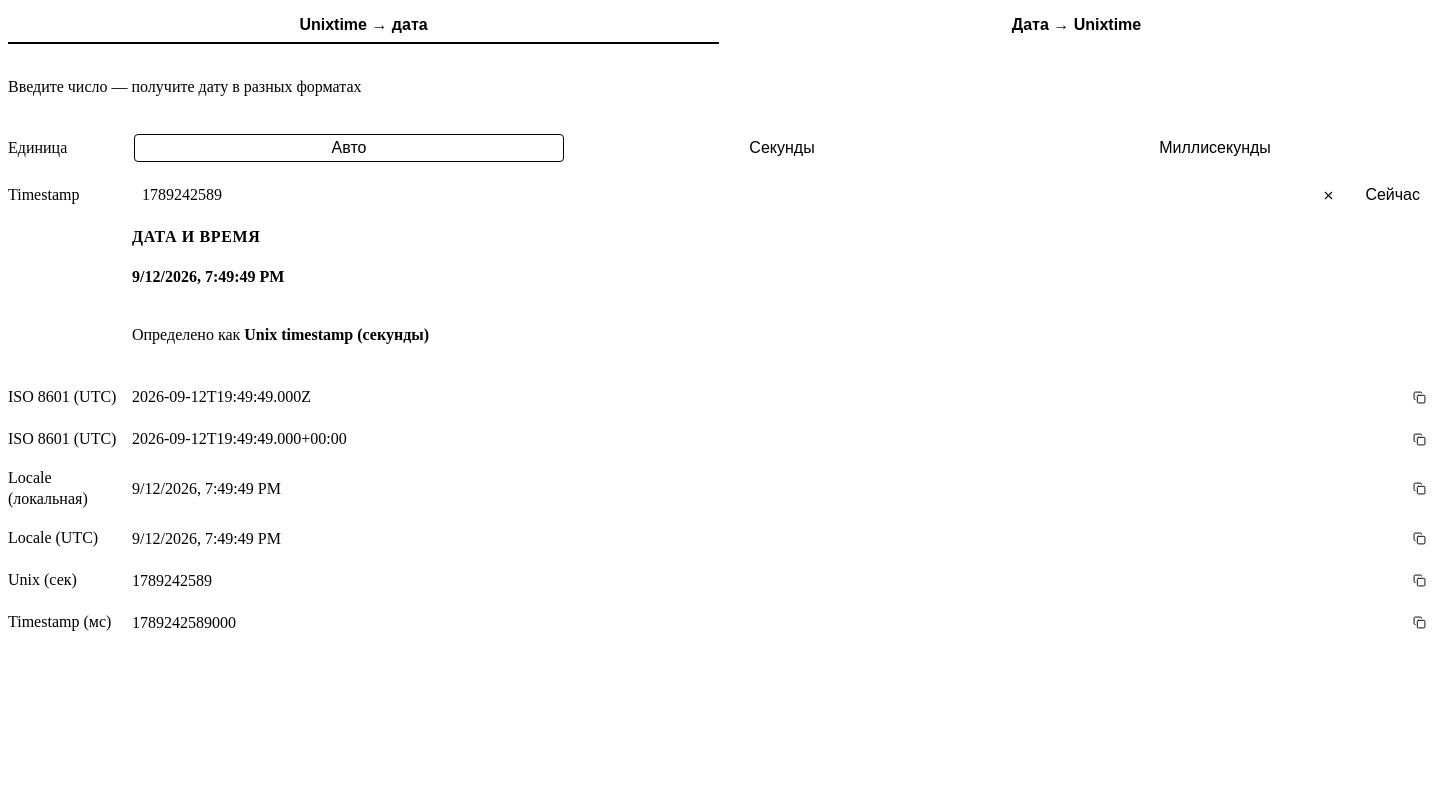
UnixtimeConverter › несуществующая дата объясняется, а не переносится на следующий месяц
Step 1. Click the tab "Дата → Unixtime" → (1076, 26), box [721, 8, 1432, 44]
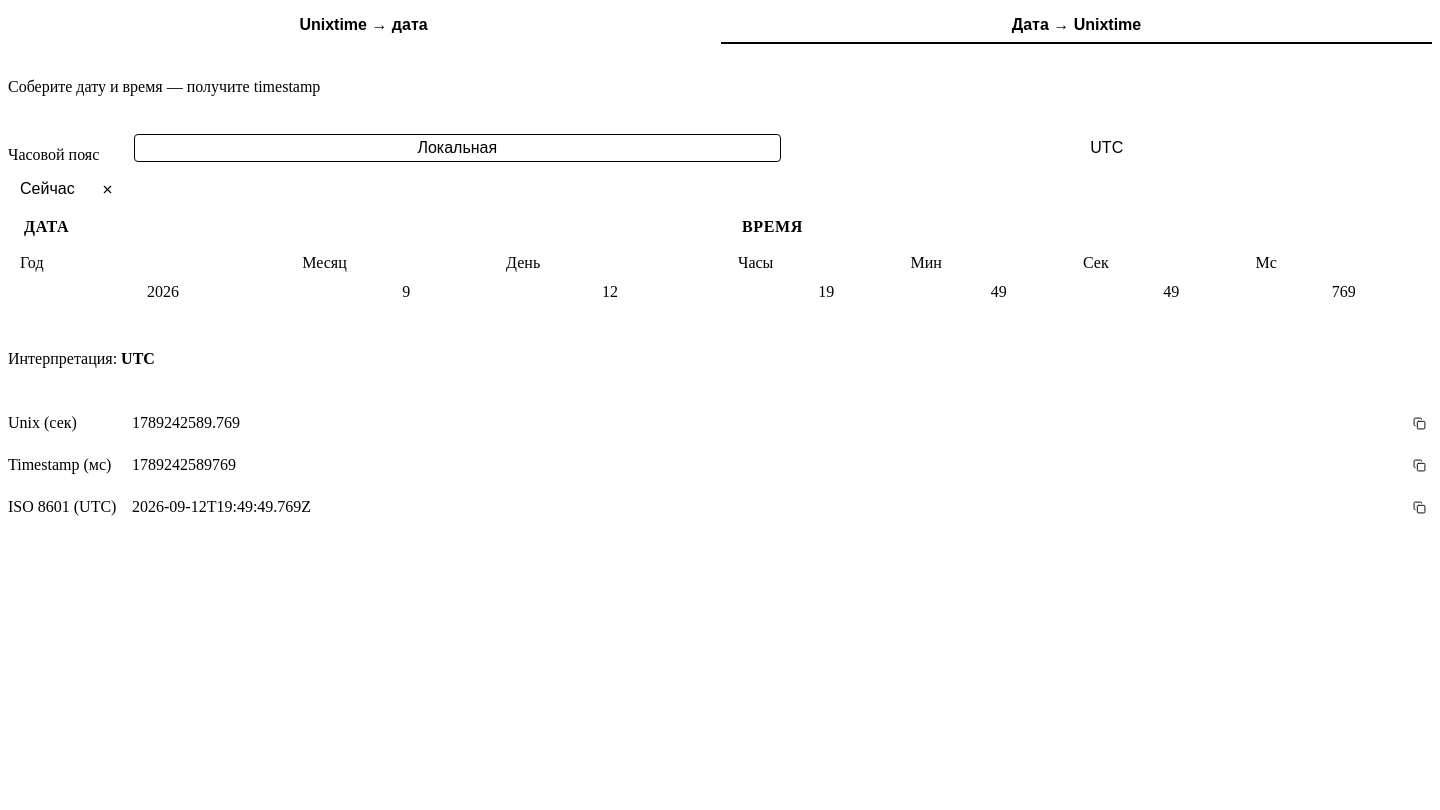
Step 2. Click the button "UTC" → (1107, 148), box [784, 134, 1430, 162]
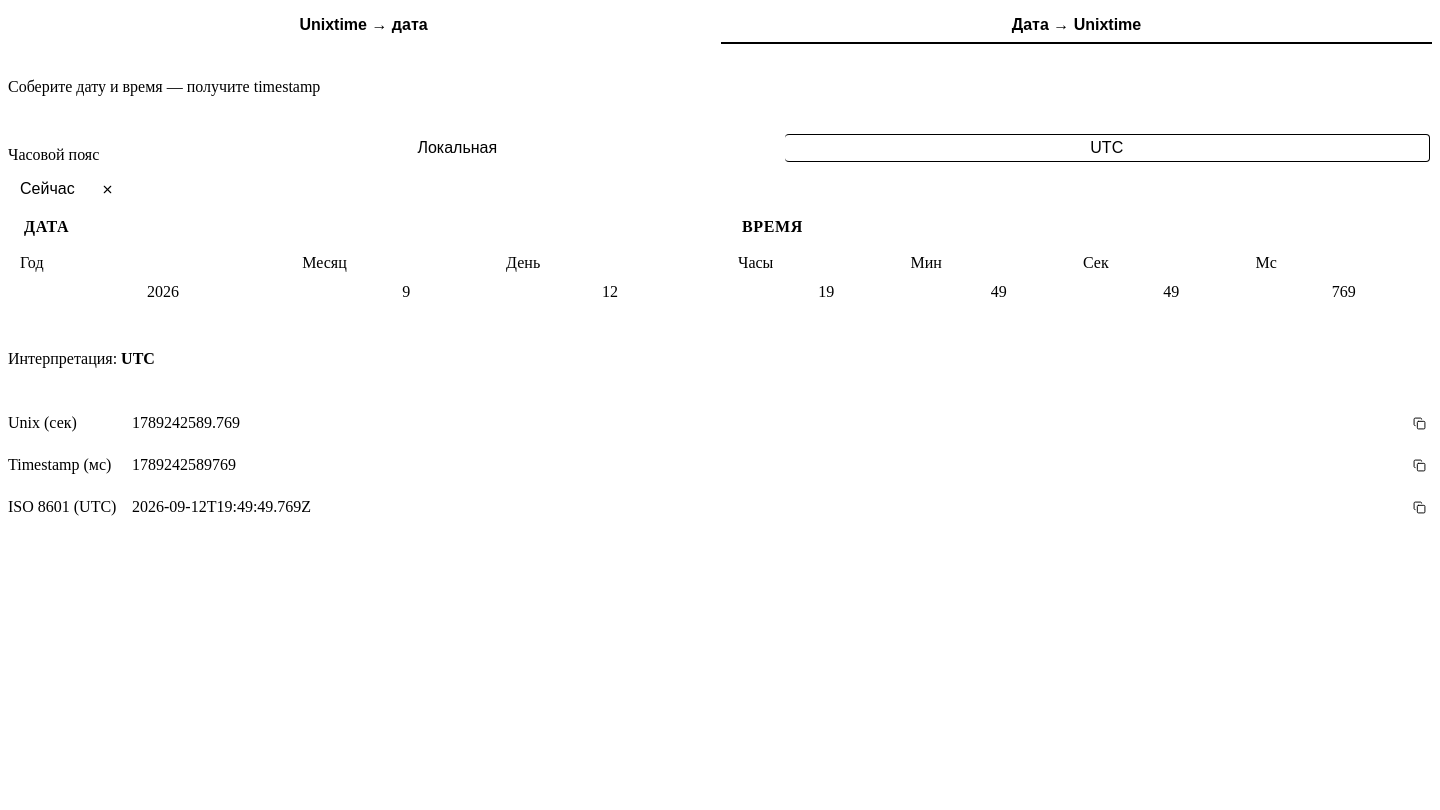
Step 3. Replace the text in the field labelled "Месяц" with "2" → (406, 292), box [302, 276, 510, 308]
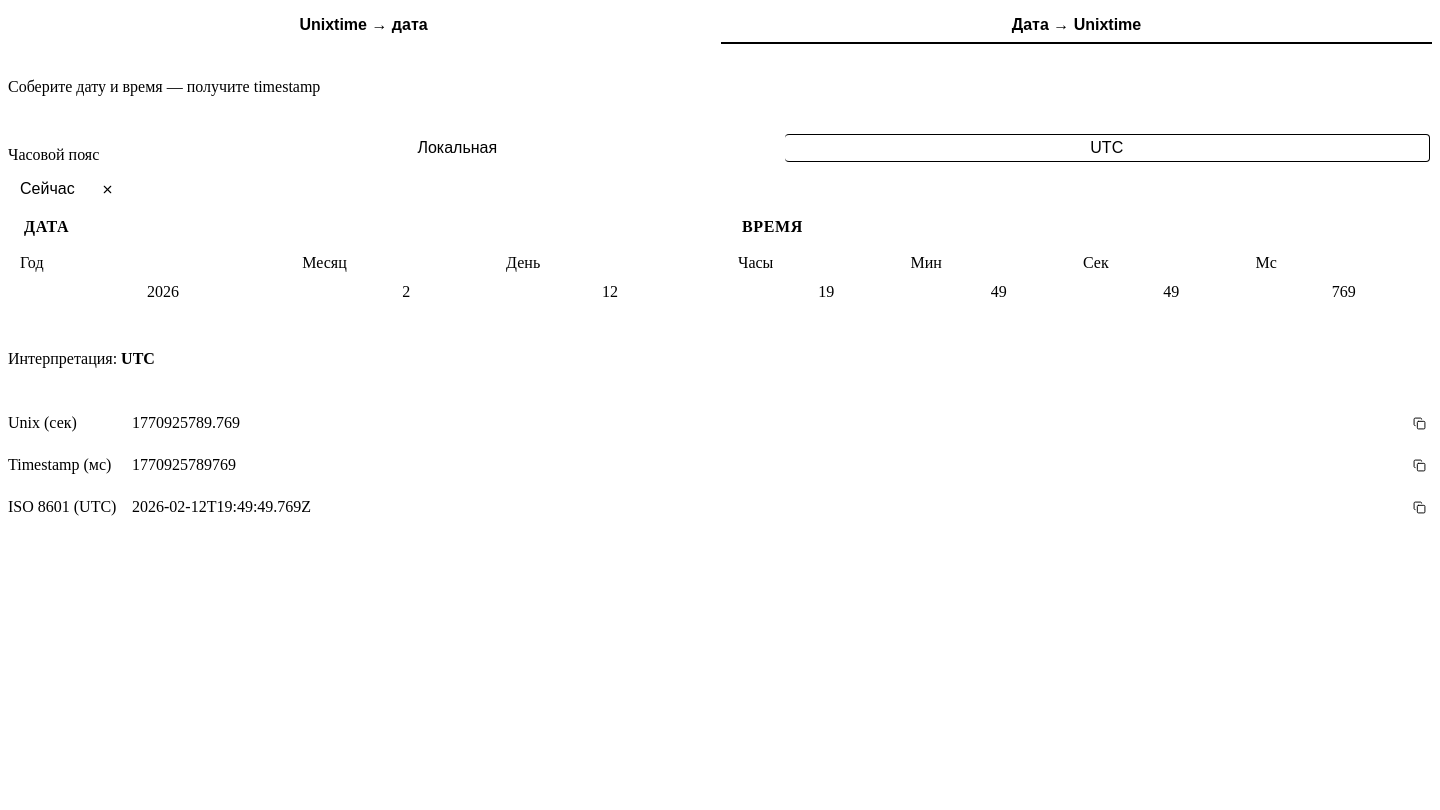
Step 4. Replace the text in the field labelled "День" with "31" → (610, 292), box [506, 276, 714, 308]
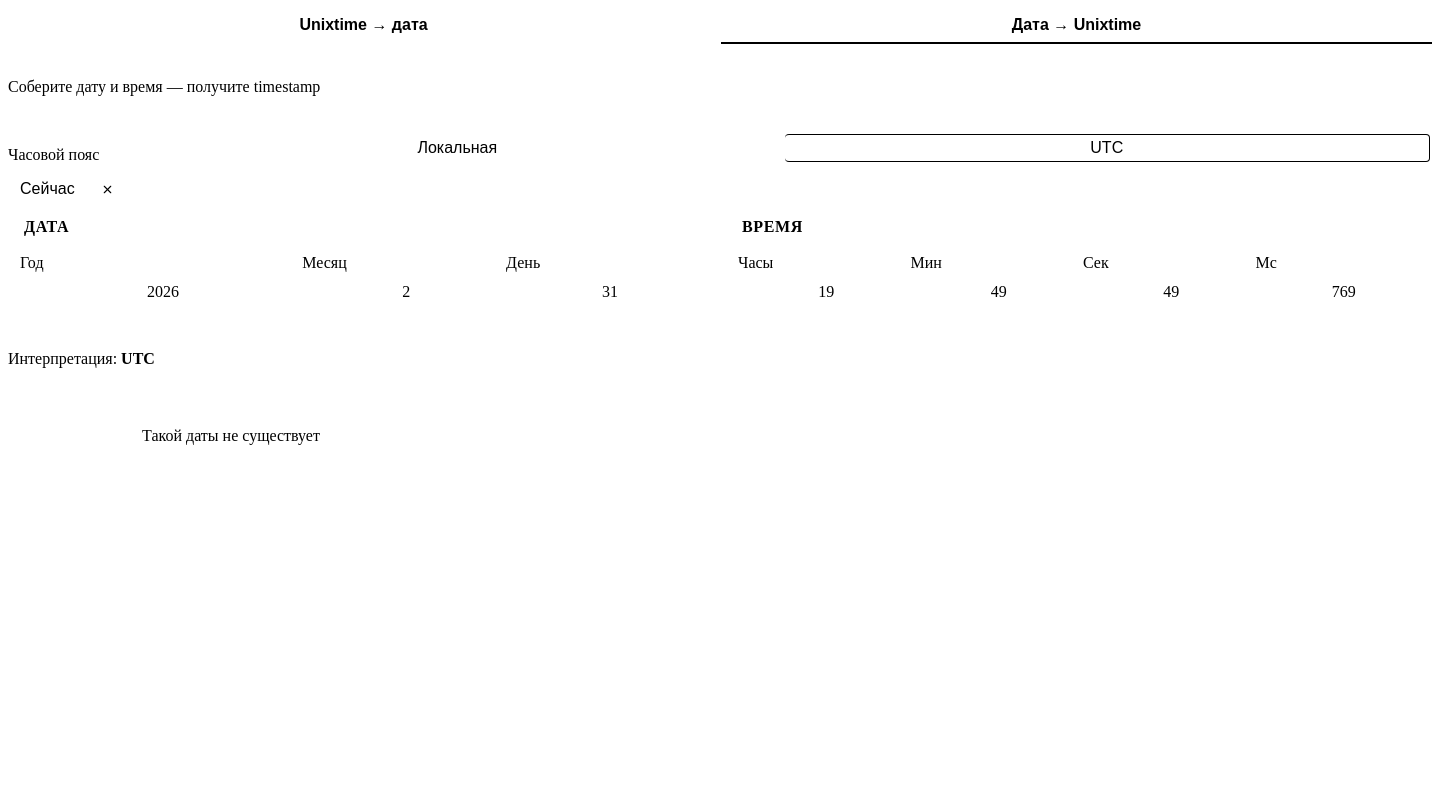
Now the text "Такой даты не существует" is shown, box [142, 427, 320, 444]
